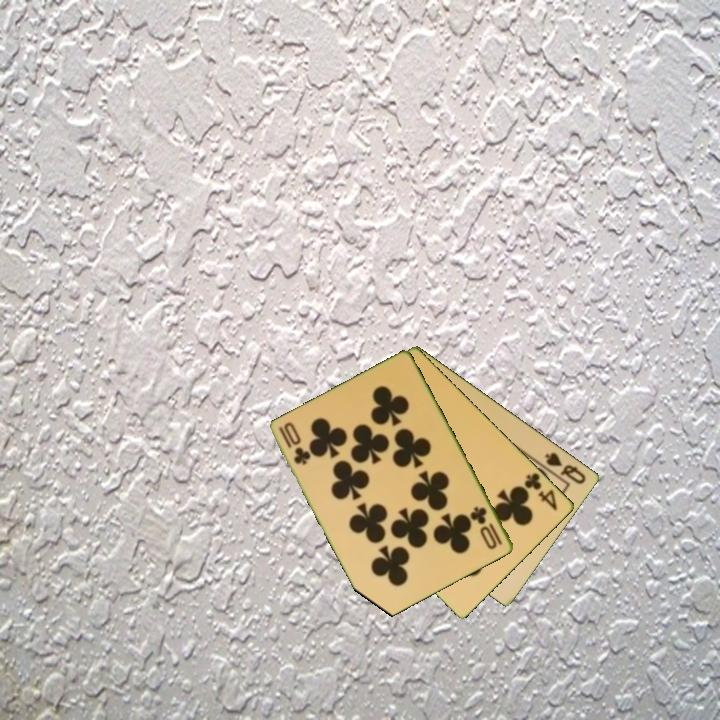10c: (467, 503, 506, 553), (275, 423, 313, 468)
4c: (521, 469, 561, 514)
Qs: (542, 449, 589, 487)
